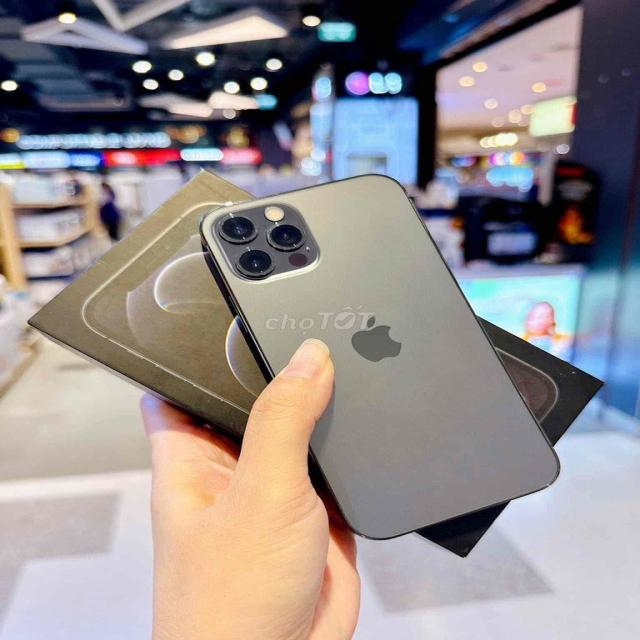gen_14: (200, 169, 573, 544)
